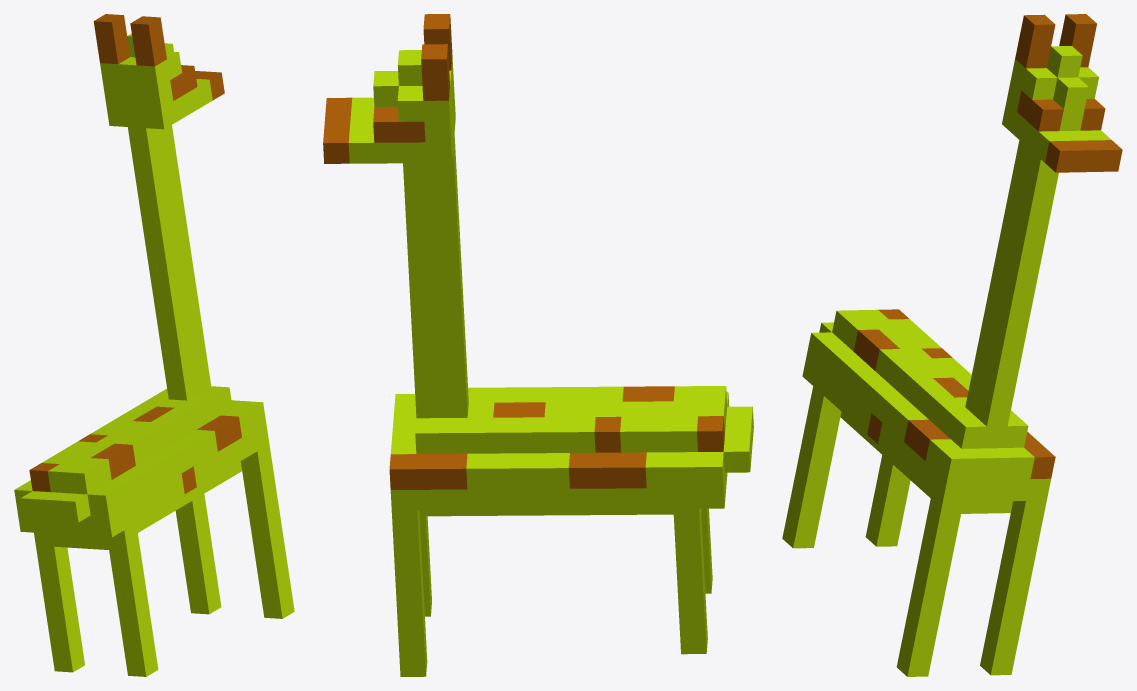
3 renders of one model, left to right at view 1: azimuth 30°, elevation 25°; view 2: azimuth 150°, elevation 25°; view 3: azimuth 270°, elevation 25°, orthographic. The views are drawn at different scales.
Parts seen in each view (by area): view 1: Chunk(Clone); view 2: Chunk(Clone); view 3: Chunk(Clone).
Boxes of the visible parts, x1=… form: Chunk(Clone): x1=14, y1=14, x2=294, y2=676; Chunk(Clone): x1=323, y1=14, x2=753, y2=676; Chunk(Clone): x1=782, y1=14, x2=1122, y2=676.
Size of the model in its own units: 2.08 by 4.1 by 1.99.
Materials: 1 (1 with a texture image).
